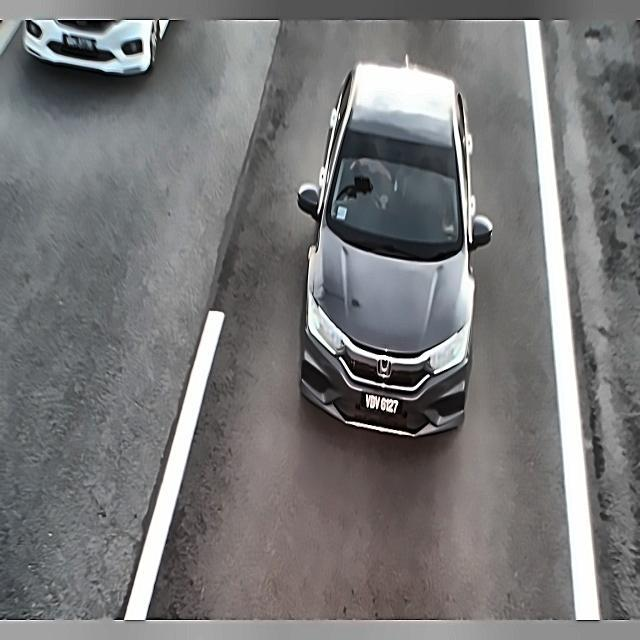car: (361, 385, 403, 422), (59, 27, 101, 62)
